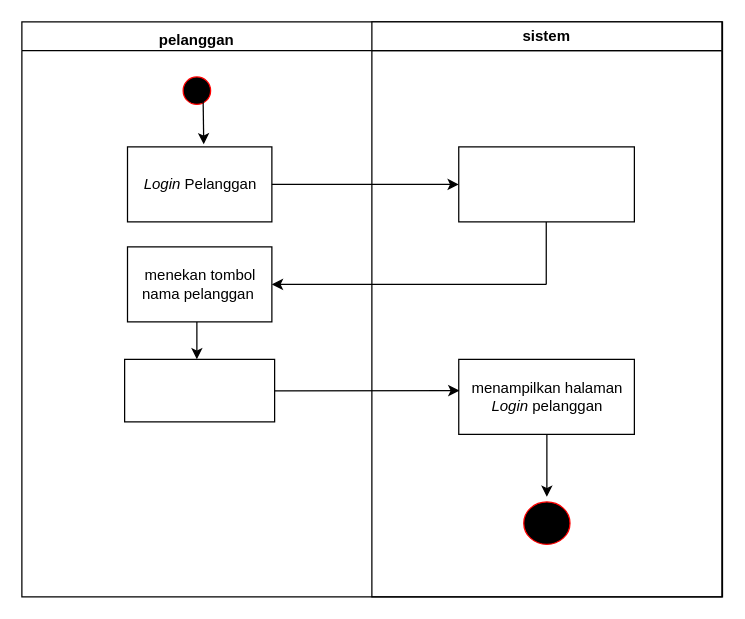
The diagram is 745 pixels wide and 619 high, and some of its shapes have lost their labels. Each missing label, with the centre of its shape:
"menampilkan halaman beranda" goes at point 546,184.
"menekan tombol Logout" goes at point 199,390.
